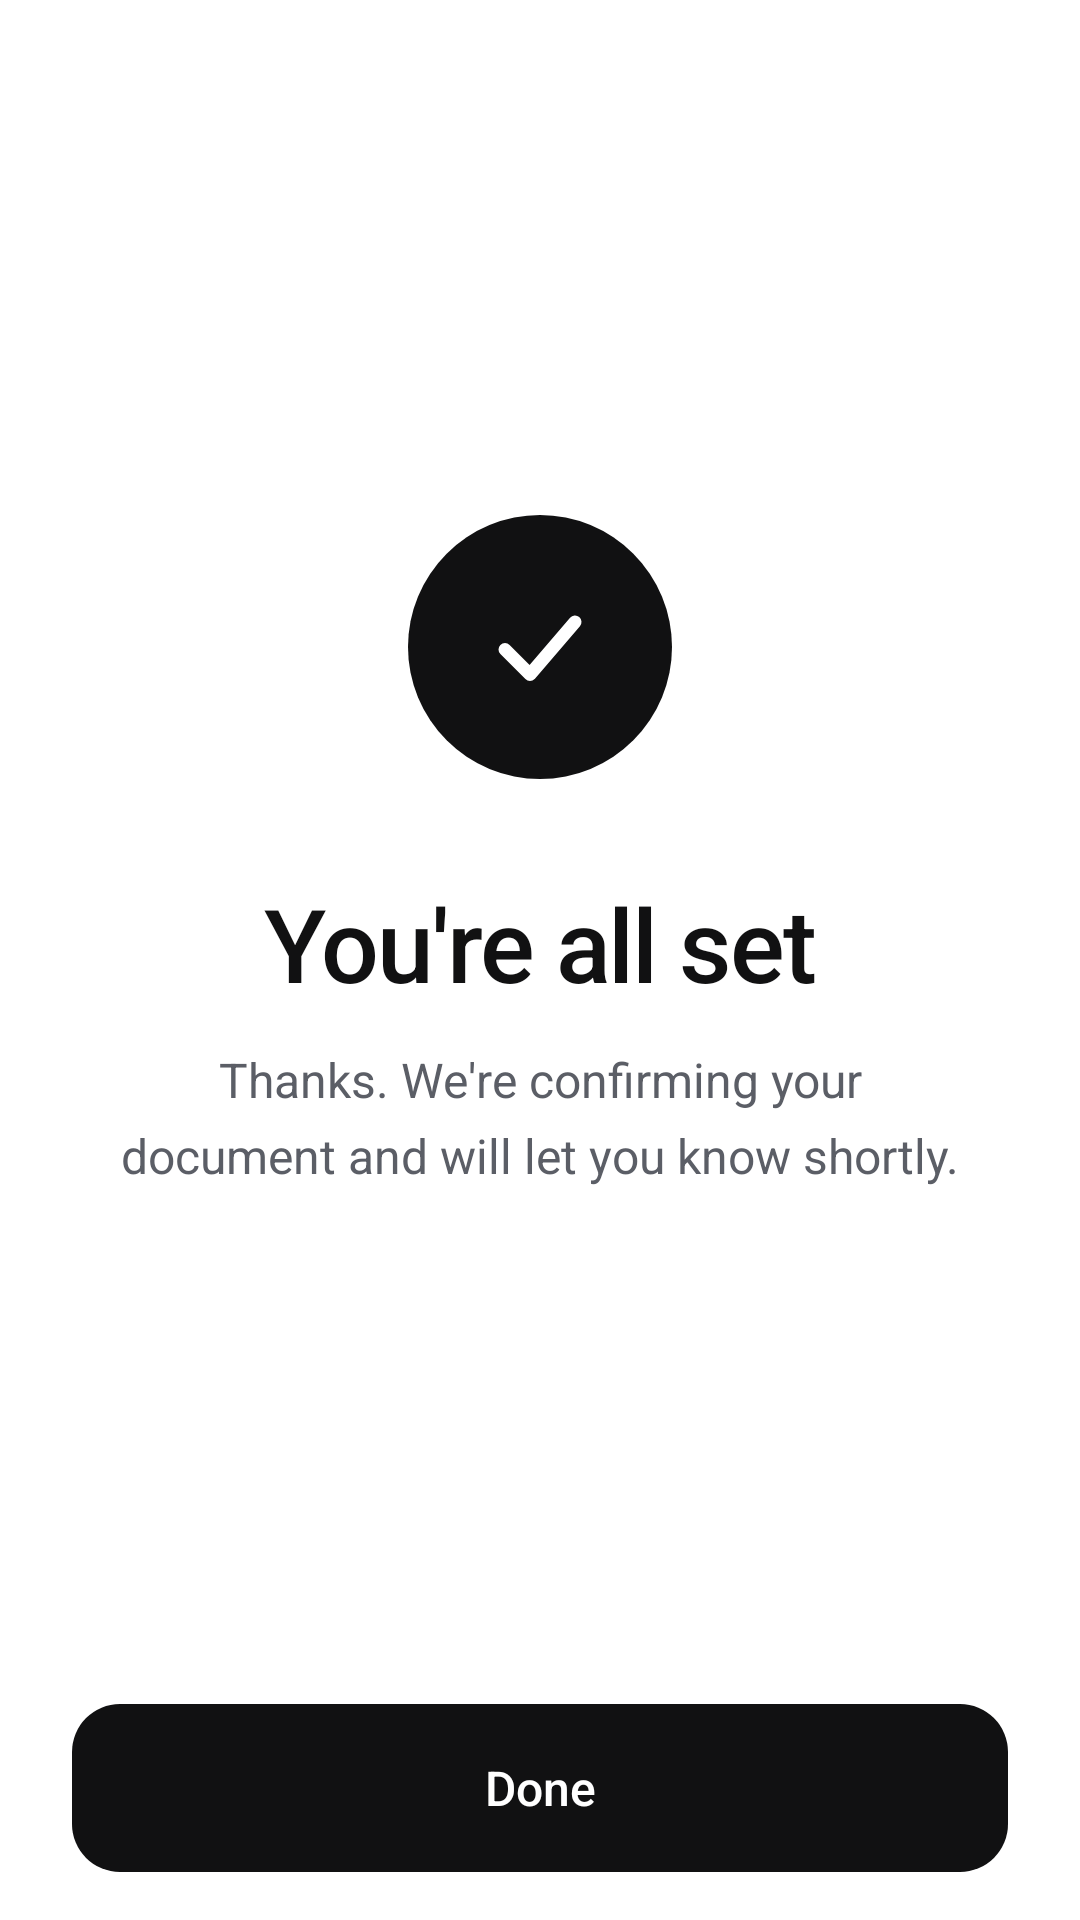

Screen size 1080px×1920px. Icon name, then its center in pixels as (x=x, y=y):
check: (x=540, y=647)
